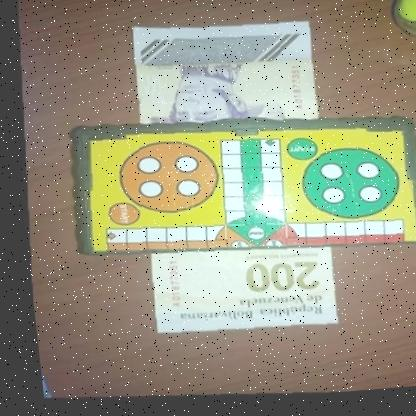two_hundred-front-vef: (103, 8, 357, 353)
